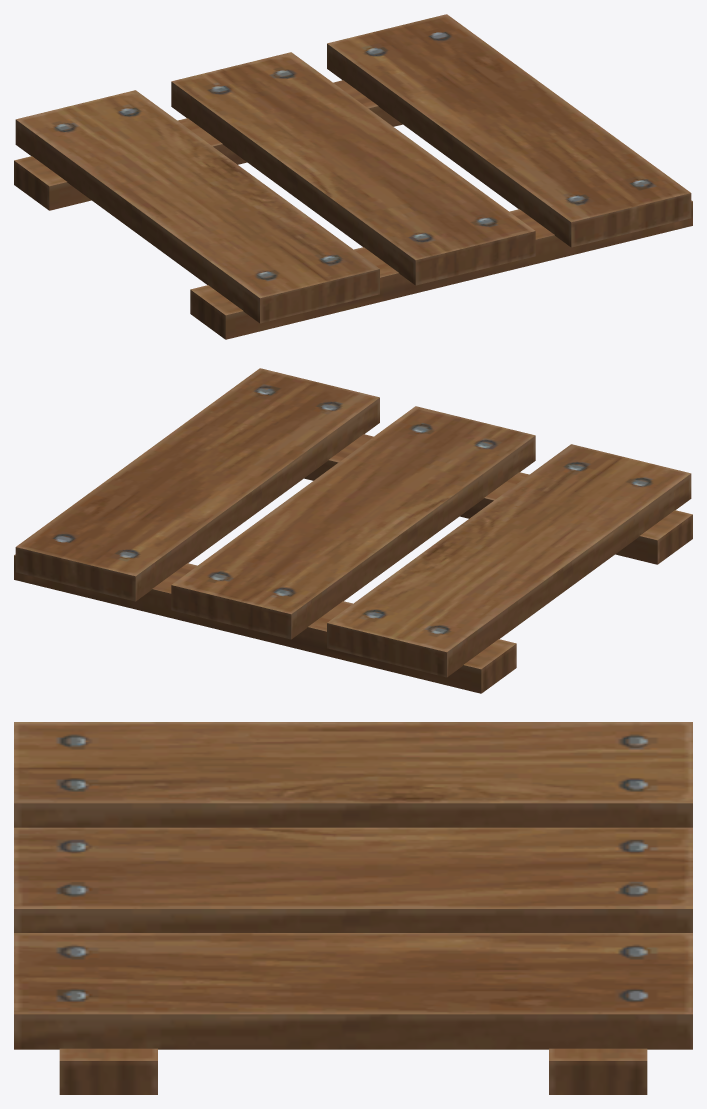
The model's file is D47_BOARD_T.obj.
3 renders of one model, top to bottom at view 1: azimuth 30°, elevation 25°; view 2: azimuth 150°, elevation 25°; view 3: azimuth 270°, elevation 25°, orthographic. The views are drawn at different scales.
Visible parts, largest first — view 1: D47_BOARD_T; view 2: D47_BOARD_T; view 3: D47_BOARD_T.
Part boxes in pixels (box(x1,y1,x2,y2)): D47_BOARD_T: box(14, 14, 692, 339); D47_BOARD_T: box(14, 368, 692, 693); D47_BOARD_T: box(14, 722, 692, 1094).
Bounding box in the file's own units: 1 × 0.1005 × 0.9059.
Materials: 1 (1 with a texture image).
